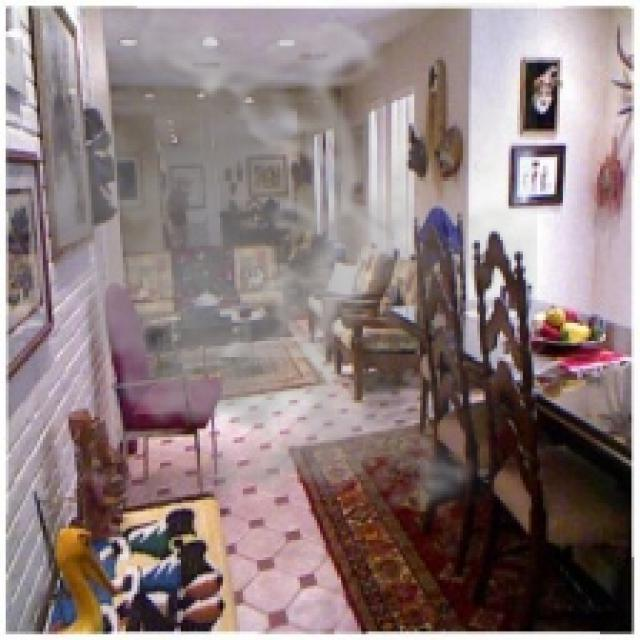Smoke: (0, 2, 537, 528)
